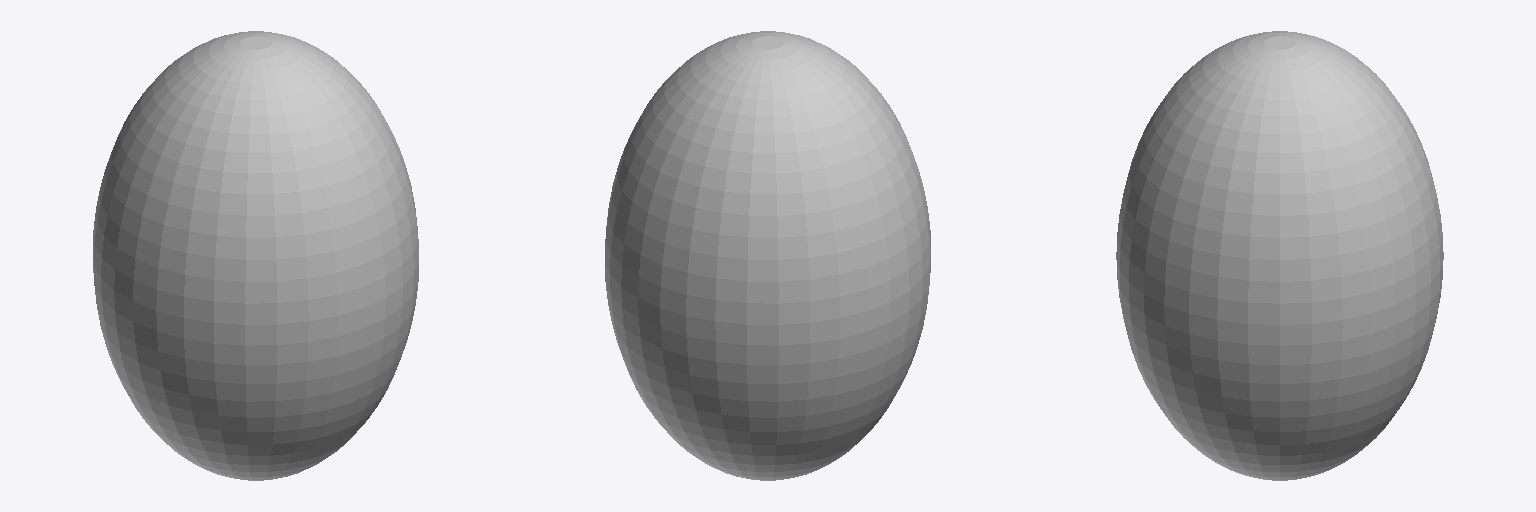
The model's file is head.obj.
3 views of the same model, side by side, from view 1: azimuth 30°, elevation 25°; view 2: azimuth 150°, elevation 25°; view 3: azimuth 270°, elevation 25° (orthographic).
Parts seen in each view (by area): view 1: Sphere; view 2: Sphere; view 3: Sphere.
Part boxes in pixels (x1,y1,x2,y2): Sphere: (93, 31, 418, 480); Sphere: (605, 31, 930, 480); Sphere: (1116, 31, 1443, 480).
Bounding box in the file's own units: 2 × 2.87 × 2.